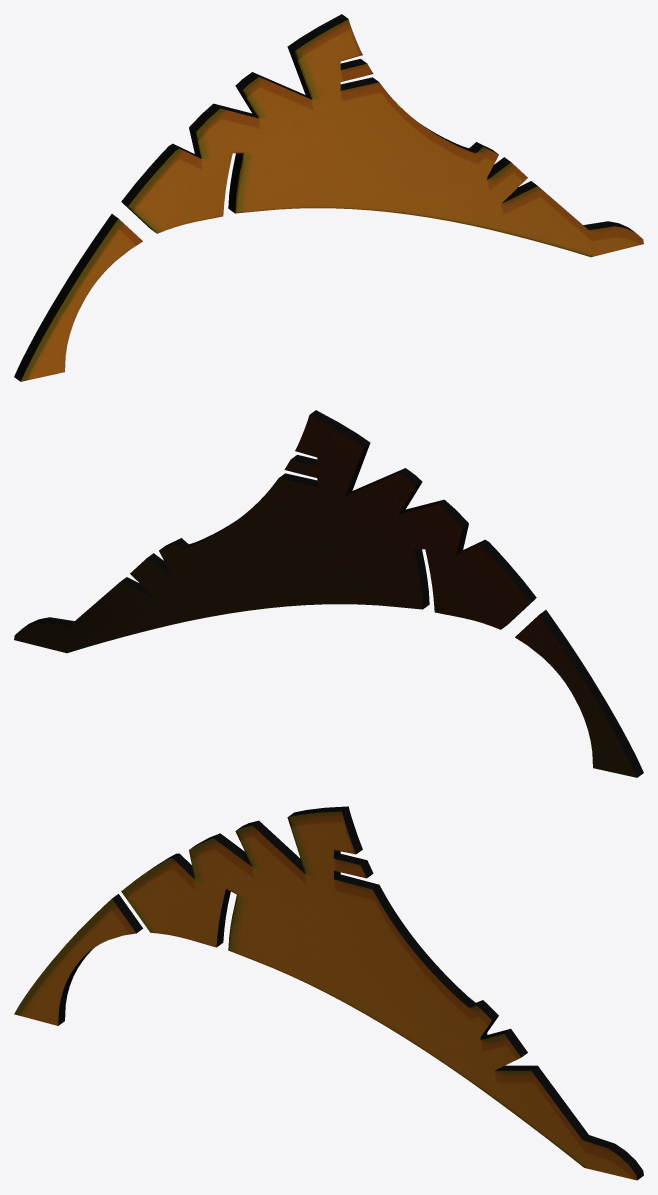
Rendered from icon_tomcat_dark_yellow.glb.
3 views of the same model, one above another, from view 1: azimuth 30°, elevation 25°; view 2: azimuth 150°, elevation 25°; view 3: azimuth 330°, elevation 25° (orthographic).
Parts seen in each view (by area): view 1: icon_tomcat_dark_yellow; view 2: icon_tomcat_dark_yellow; view 3: icon_tomcat_dark_yellow.
Boxes of the visible parts, x1,y1,x2,y2 form: icon_tomcat_dark_yellow: [14, 14, 643, 381]; icon_tomcat_dark_yellow: [14, 410, 643, 777]; icon_tomcat_dark_yellow: [14, 806, 643, 1180].
Bounding box in the file's own units: 3.9 × 1.78 × 0.0732.
Materials: 1 (1 with a texture image).
